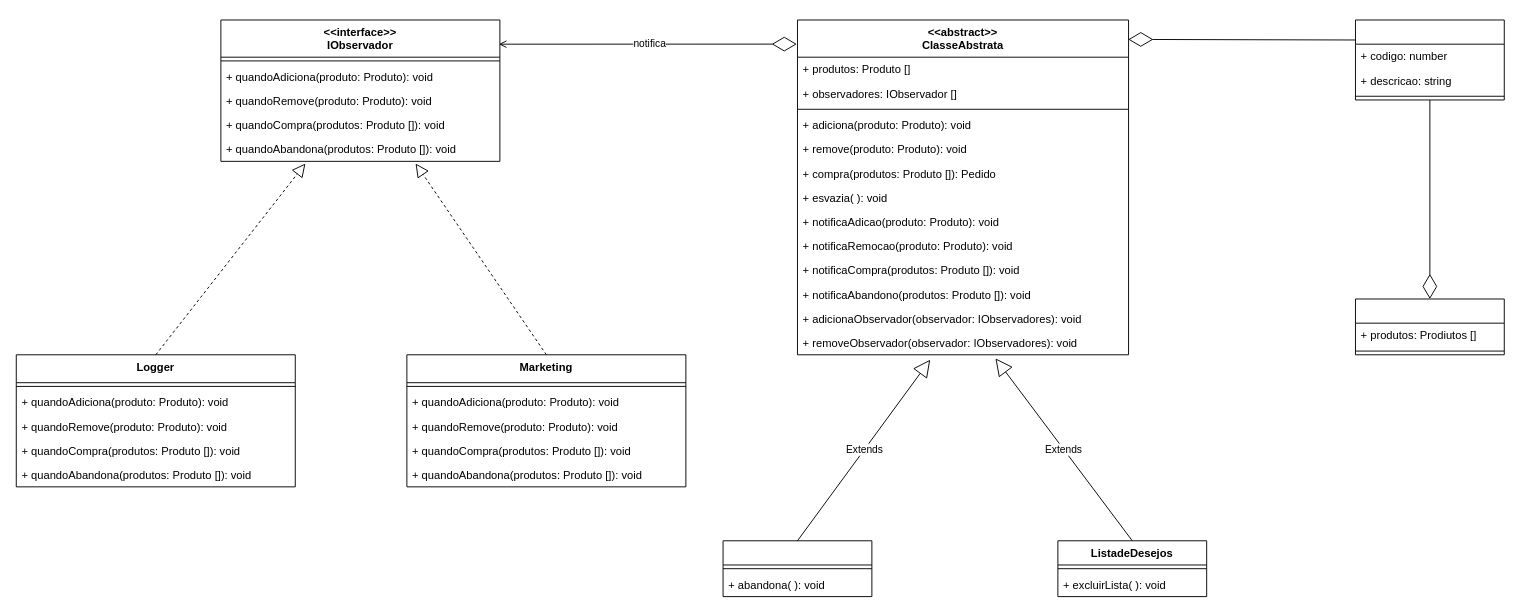
Some shapes in this 1521 by 616 pixel diagram are drawn without their labels. Here are the shapes that lost their labels. From the top down, the box of each, then its label:
(1355, 19, 1504, 100): Produto
(1355, 298, 1504, 355): Pedido
(722, 540, 872, 597): Carrinho
